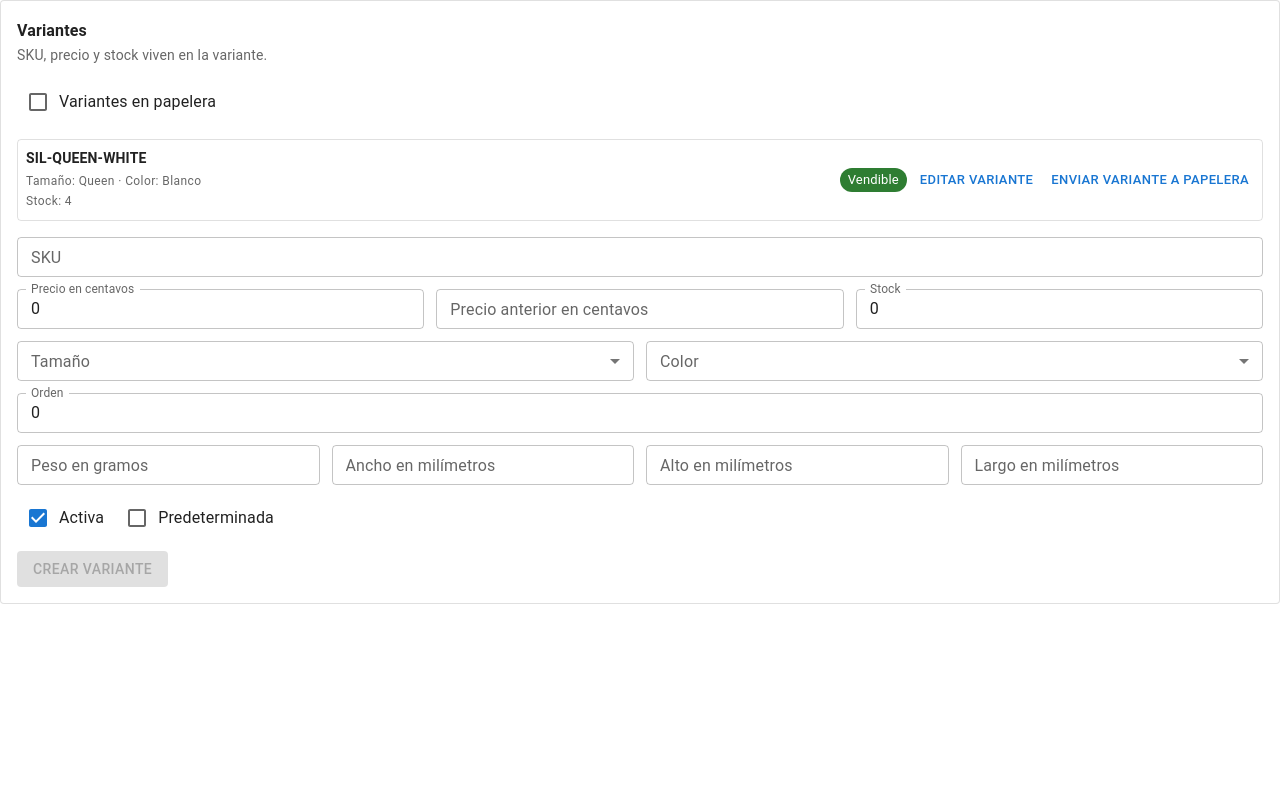
it: product_variant_editor › hydrates named selections for editing without exposing internal keys
Click the button "Editar variante" at (977, 180), box [915,165,1038,195]
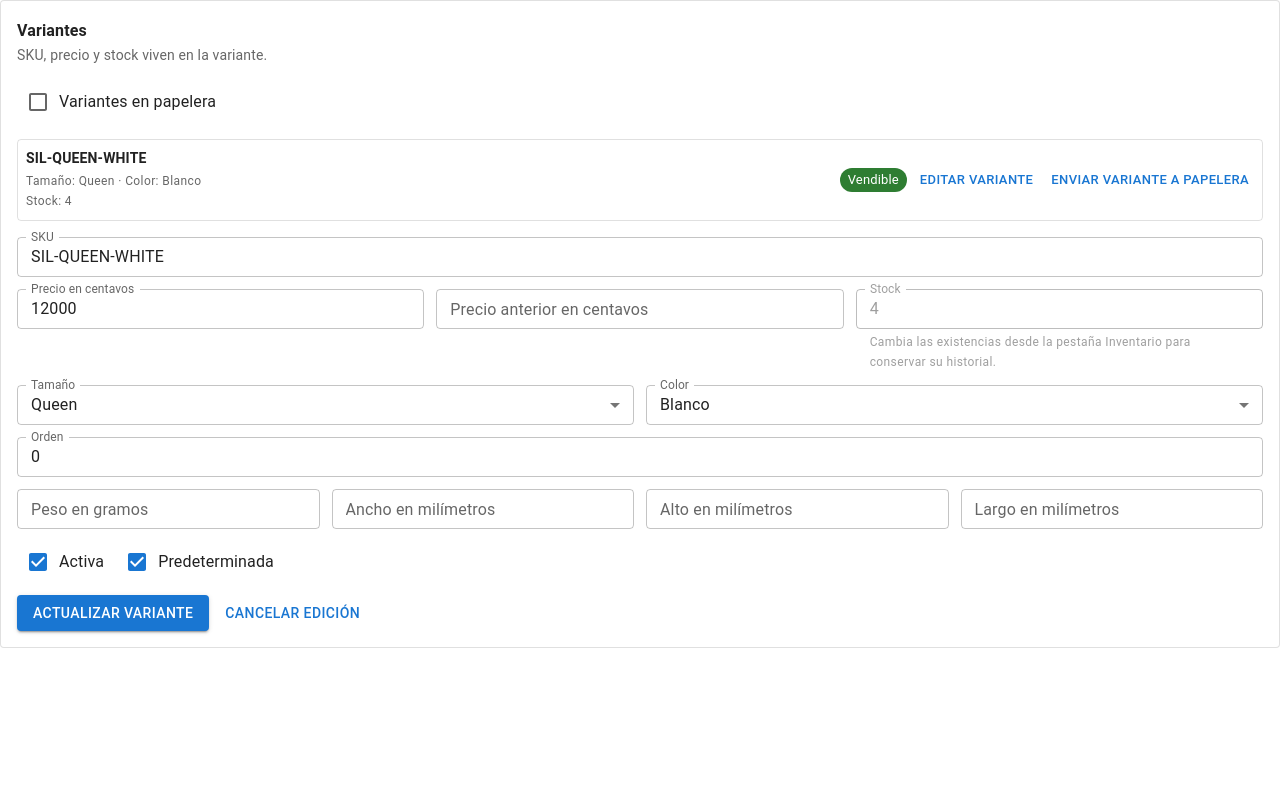
Expected: the dropdown named "Tamaño" reads "Queen", [31,395,77,414]
Expected: the dropdown named "Color" reads "Blanco", [660,395,710,414]
